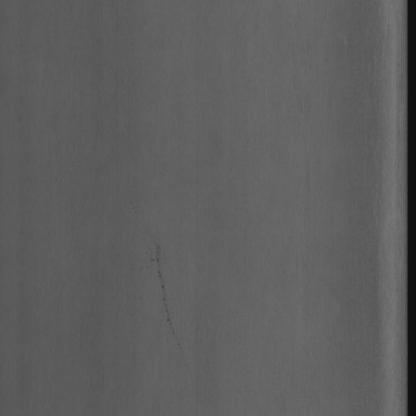water_spot: (149, 235, 179, 338)
